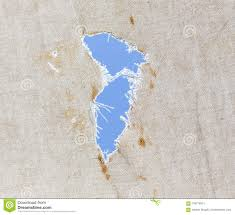Hole: (56, 13, 178, 182)
